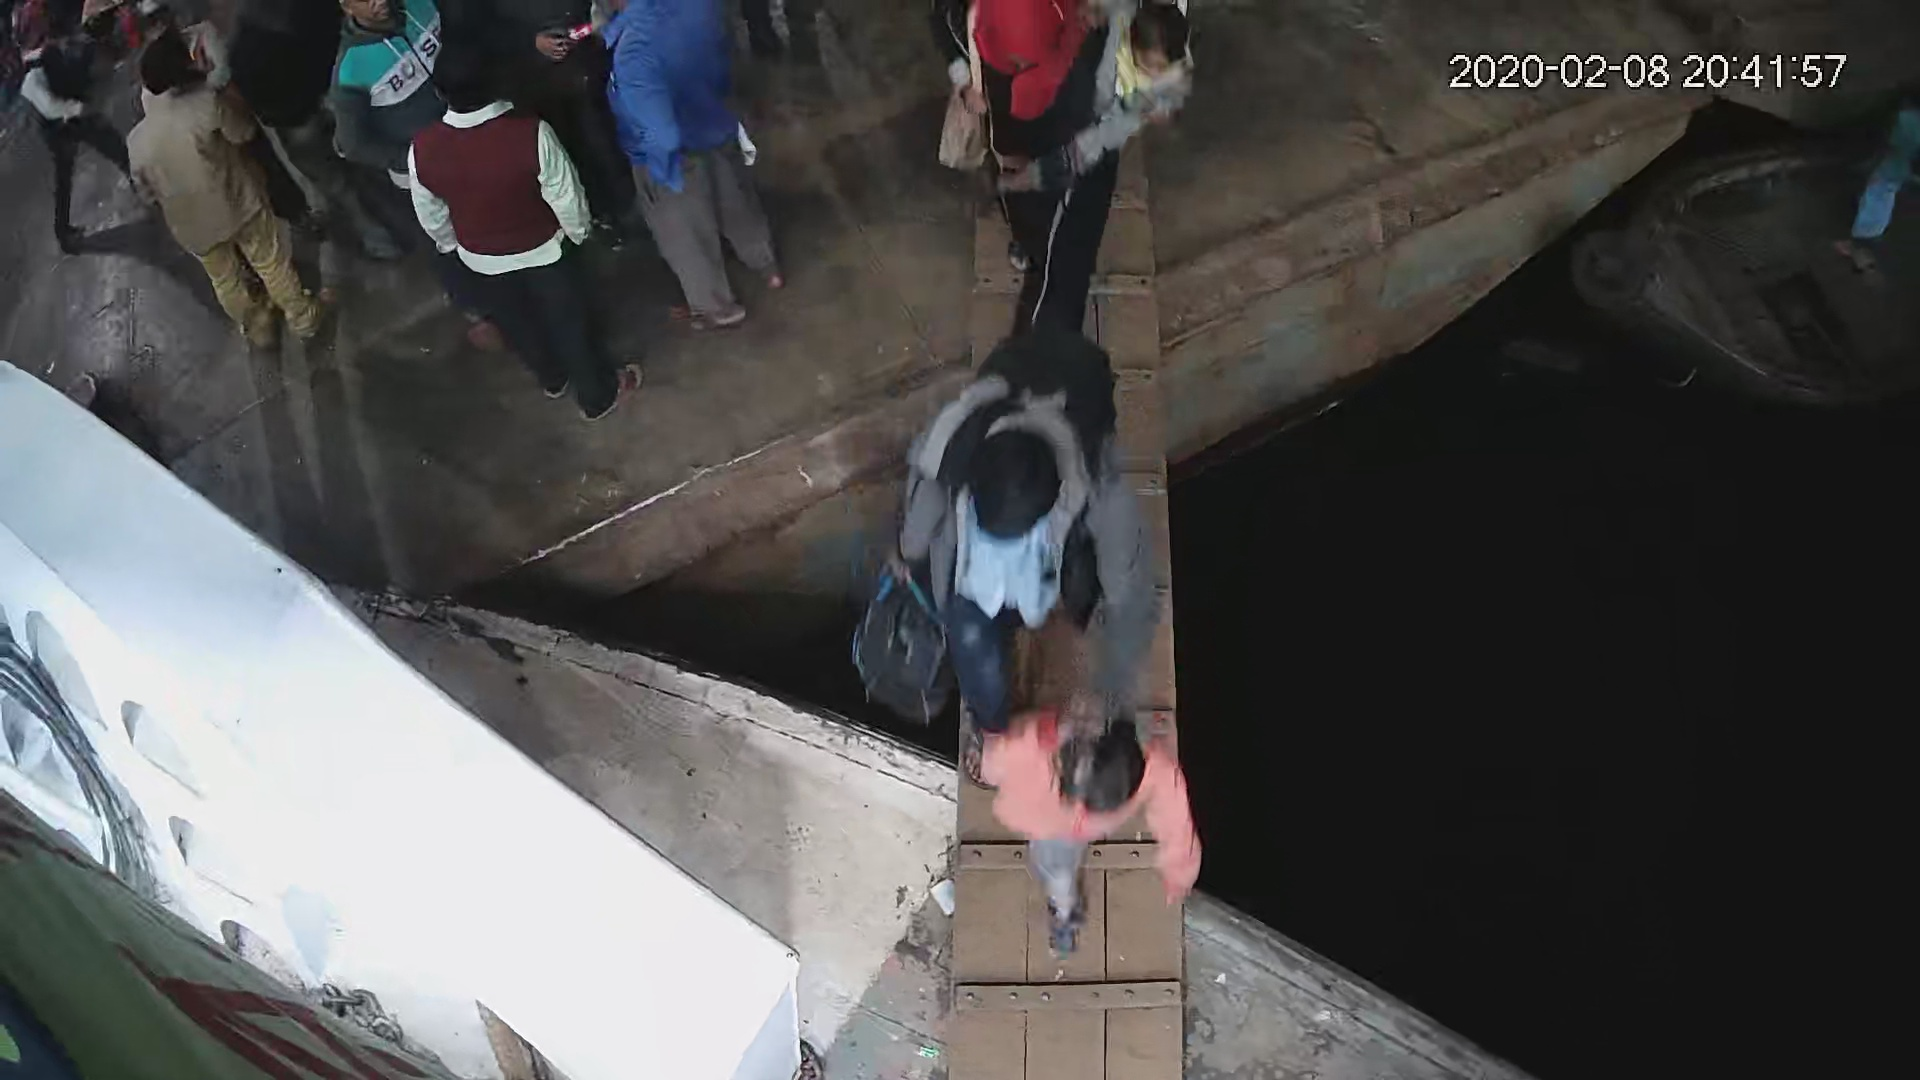person: (411, 43, 644, 428), (888, 365, 1148, 705), (121, 40, 336, 357), (598, 1, 792, 338), (947, 1, 1129, 347), (971, 705, 1194, 963)
